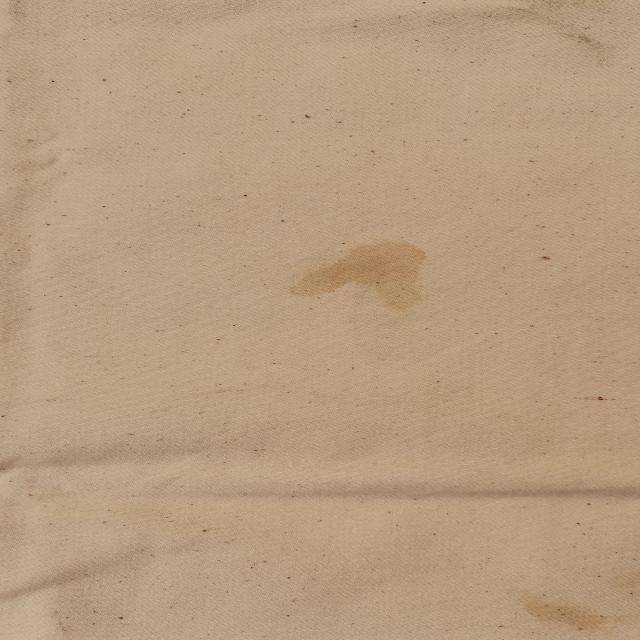taaaches: (290, 232, 454, 322), (492, 586, 636, 636)
